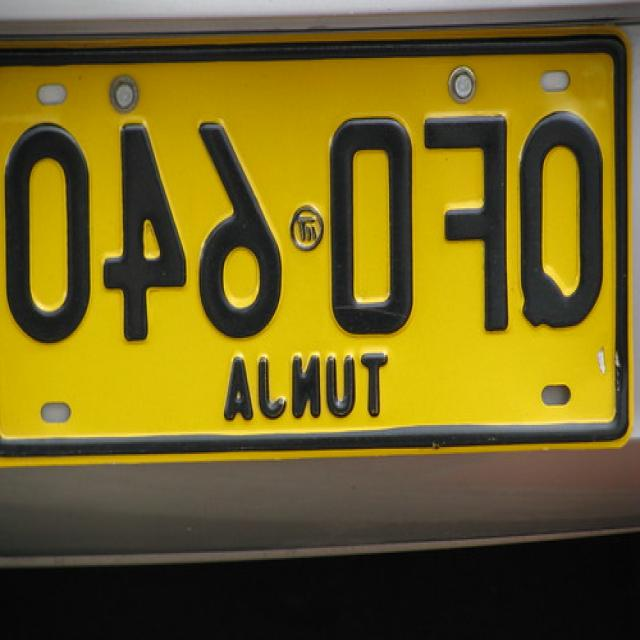placas: (0, 32, 624, 348)
